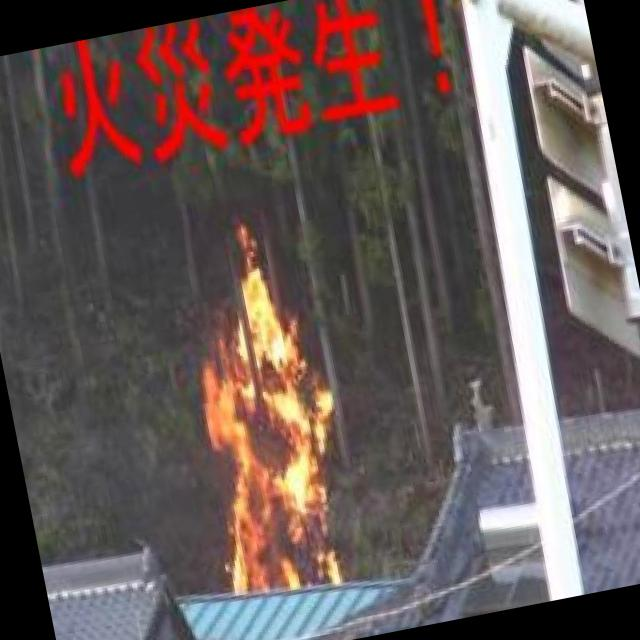Smoke: (150, 205, 370, 610)
